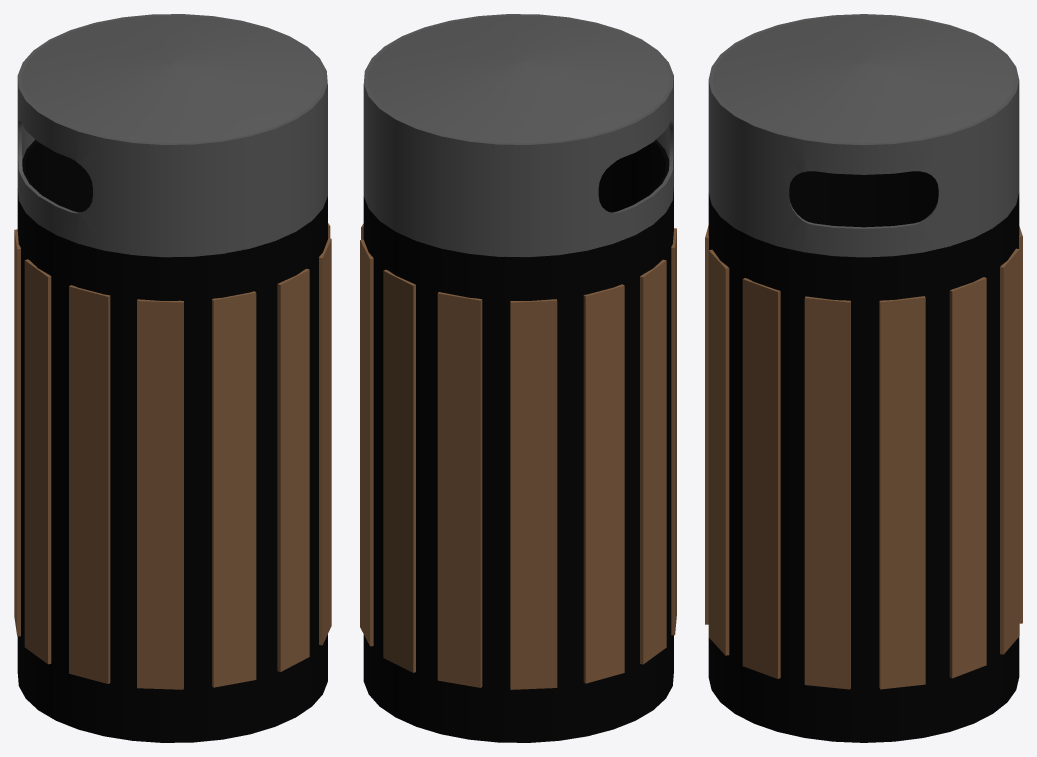
The model's file is bin.fbx.
The picture shows the model from 3 angles, left to right: view 1: azimuth 30°, elevation 25°; view 2: azimuth 150°, elevation 25°; view 3: azimuth 270°, elevation 25°; orthographic projection.
Visible parts, largest first — view 1: BinUpper; view 2: BinUpper; view 3: BinUpper.
Boxes of the visible parts, <box> form: BinUpper: <box>14,14,331,742</box>; BinUpper: <box>360,14,676,742</box>; BinUpper: <box>705,14,1022,742</box>.
Size of the model in its own units: 203 by 436 by 205.
